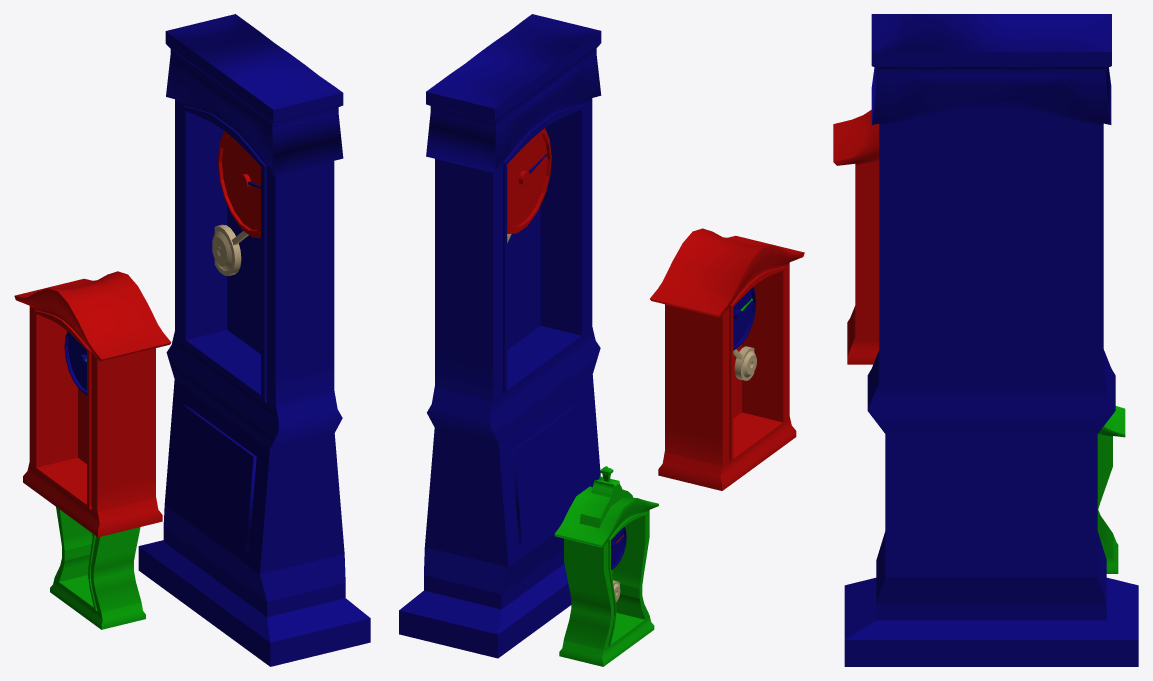
Rendered from Clocks_Left_ClockShop.fbx.
3 renders of one model, left to right at view 1: azimuth 30°, elevation 25°; view 2: azimuth 150°, elevation 25°; view 3: azimuth 270°, elevation 25°, orthographic. The views are drawn at different scales.
Visible parts, largest first — view 1: Clock008, Clock004, Clock006, Clock007; view 2: Clock008, Clock004, Clock006, Clock_arm001; view 3: Clock008, Clock004, Clock006.
Boxes of the visible parts, box(x1,y1,x2,y2) form: Clock008: box(138, 14, 370, 666); Clock004: box(14, 271, 171, 537); Clock006: box(50, 507, 145, 629); Clock007: box(212, 224, 248, 275); Clock008: box(399, 14, 601, 658); Clock004: box(650, 228, 804, 490); Clock006: box(554, 466, 658, 666); Clock_arm001: box(733, 346, 756, 380); Clock008: box(844, 14, 1138, 666); Clock004: box(833, 110, 879, 364); Clock006: box(1097, 406, 1125, 573).
Size of the model in its own units: 26.66 by 50.59 by 23.06.
